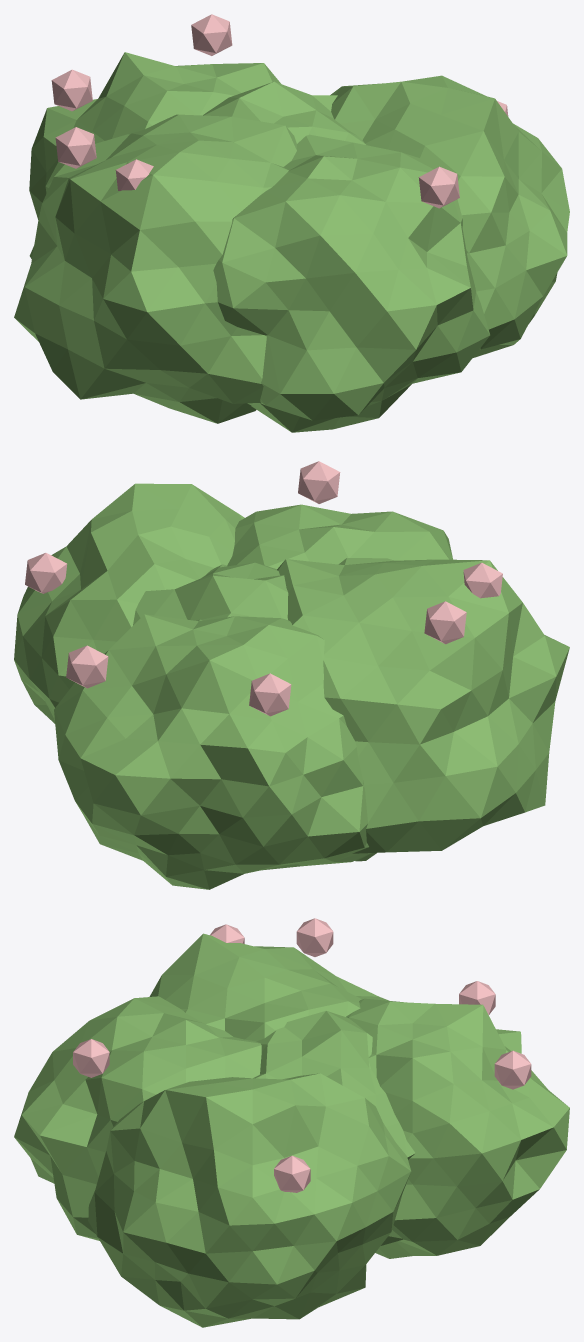
Rendered from bush-large.glb.
The picture shows the model from 3 angles, top to bottom: view 1: azimuth 30°, elevation 25°; view 2: azimuth 150°, elevation 25°; view 3: azimuth 270°, elevation 25°; orthographic projection. The views are drawn at different scales.
Parts seen in each view (by area): view 1: bush-large; view 2: bush-large; view 3: bush-large.
Boxes of the visible parts, x1,y1,x2,y2 form: bush-large: (14, 14, 569, 432); bush-large: (14, 461, 569, 889); bush-large: (14, 918, 569, 1327).
Size of the model in its own units: 0.9865 by 0.5292 by 1.03.
